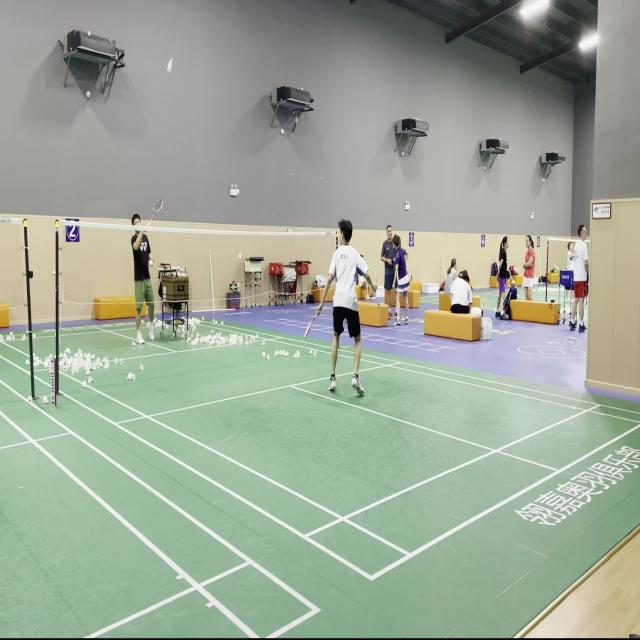shuttlecock: (167, 57, 173, 73)
